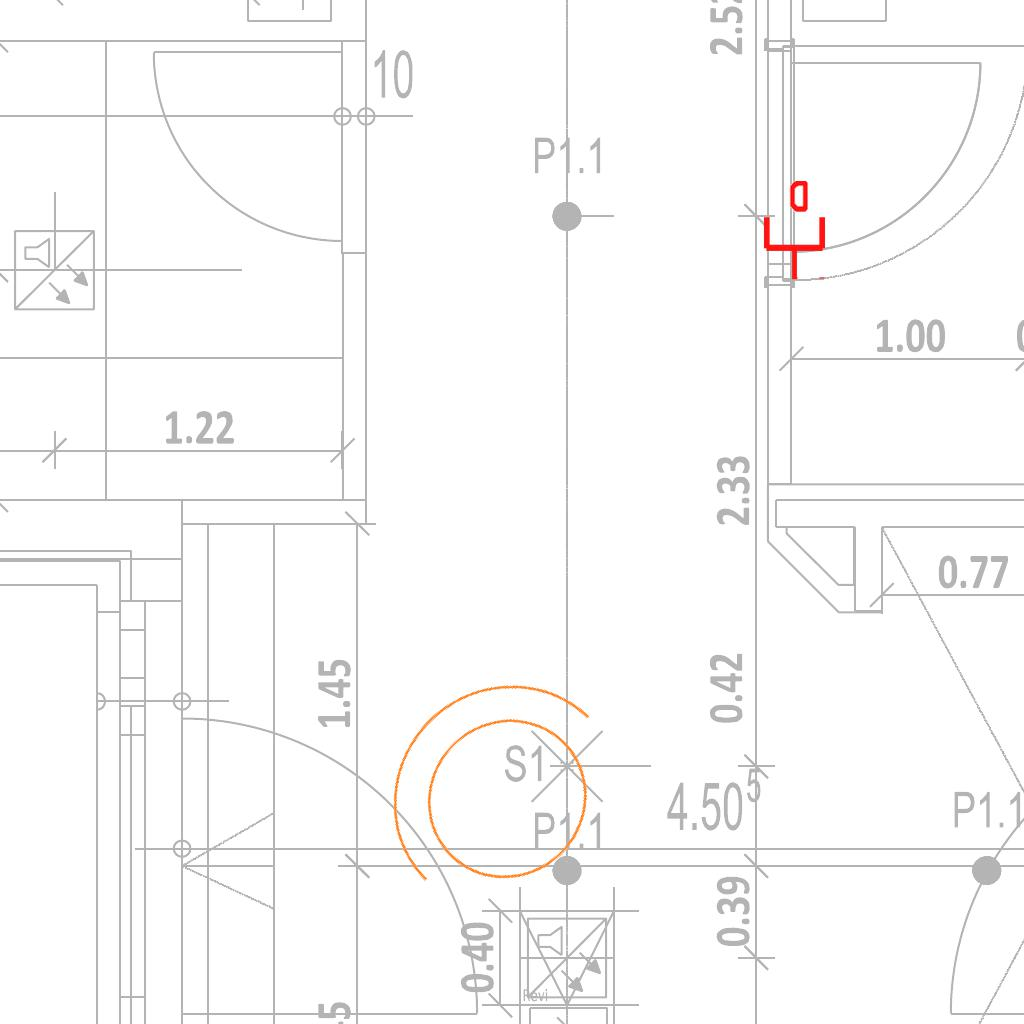Datenanschluss_einfach: (760, 181, 829, 281)
Scheinwerfer_fuer_Alarmbeleuchtung: (323, 623, 669, 970)
